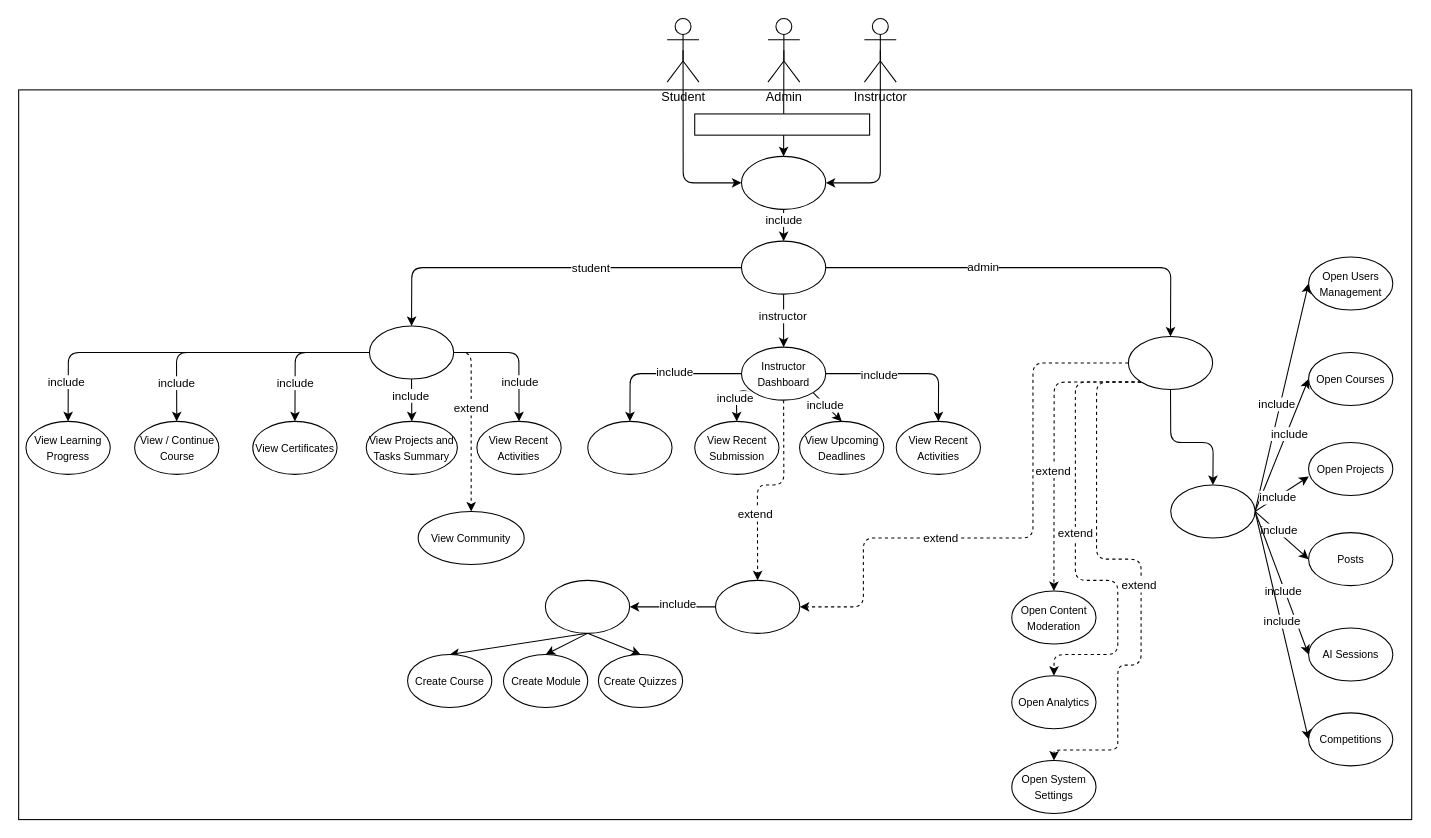
This 1431x838 diagram has some shape labels left out. The centre of each missing label's shape, as x and y in pixels:
Admin Dashboard: the point at 1170,362
Authenticate User: the point at 783,182
Dashboard System: the point at 782,124
Open Learning Admin: the point at 757,606
Open Learning Management: the point at 587,606
Student Dashboard: the point at 411,352
Verify User Role: the point at 783,267
View Lesson Progress: the point at 629,447
View System Overview: the point at 1212,511
